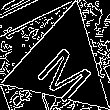M_NE: (29, 30, 96, 99)
